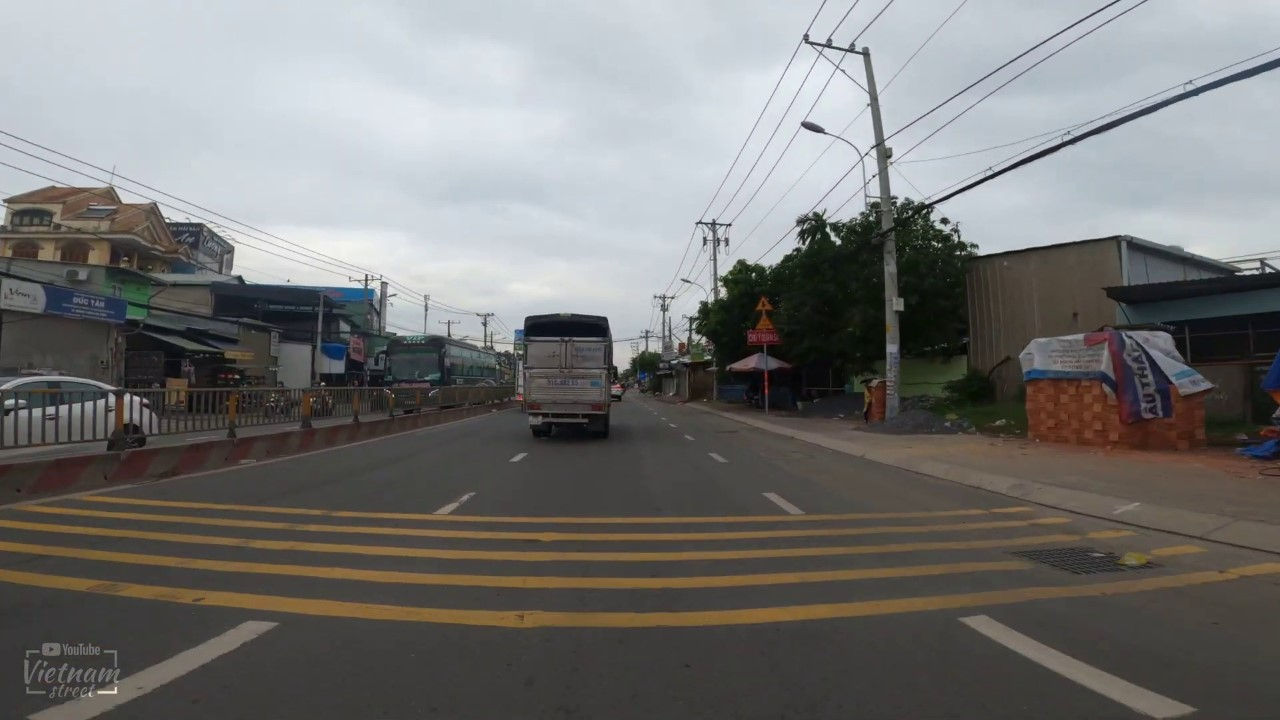di_cham: (754, 315, 774, 329)
giao_khong_uu_tien_phai: (755, 297, 774, 311)
